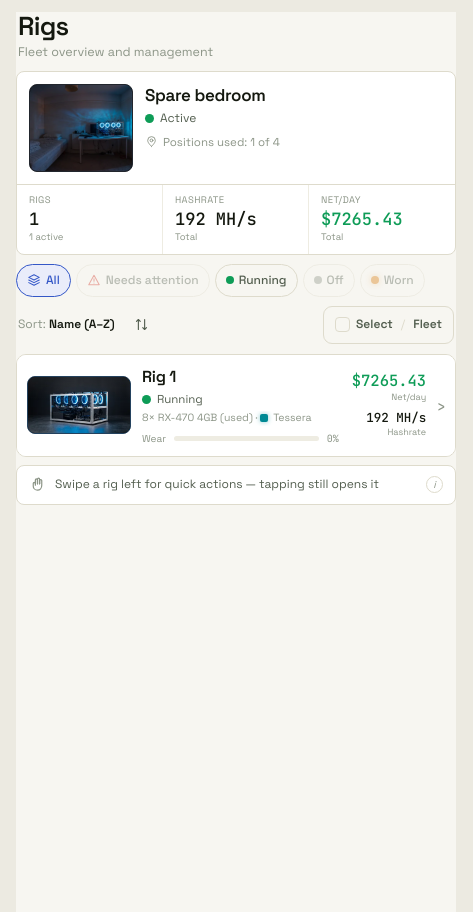
RigsView › the sort control names its direction and reverses it in place
Expected: the button with class "rigsort" shows "Name (A–Z)", [16, 307, 121, 343]
What coordinates should you click on to do the following:
click the button with class "rigsort-flip"
I would click on:
 (142, 325)
Its box is [125, 308, 159, 342].
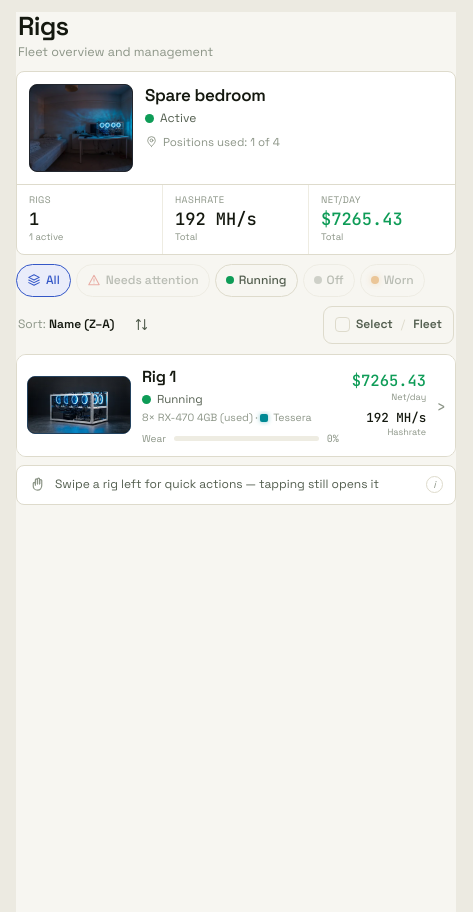
Expected: the button with class "rigsort" shows "Name (Z–A)", [16, 307, 120, 343]
